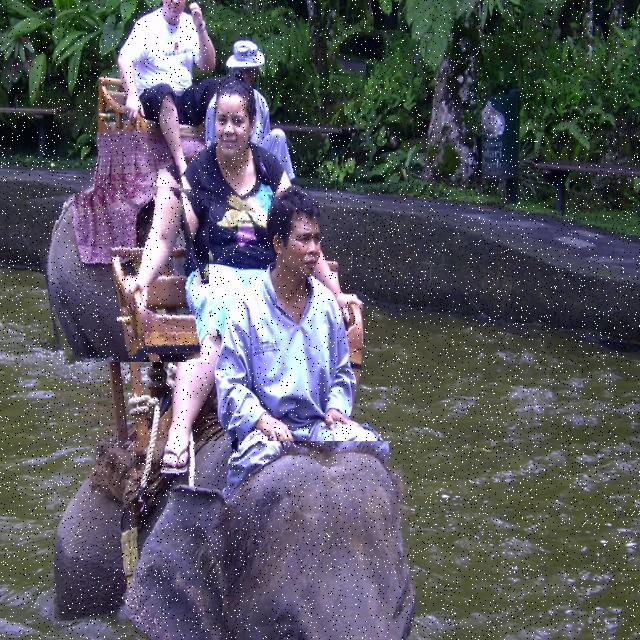elephant: (54, 441, 415, 640), (34, 172, 209, 362)
